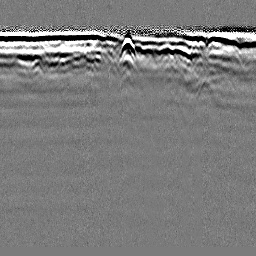cavity: (118, 34, 137, 58)
